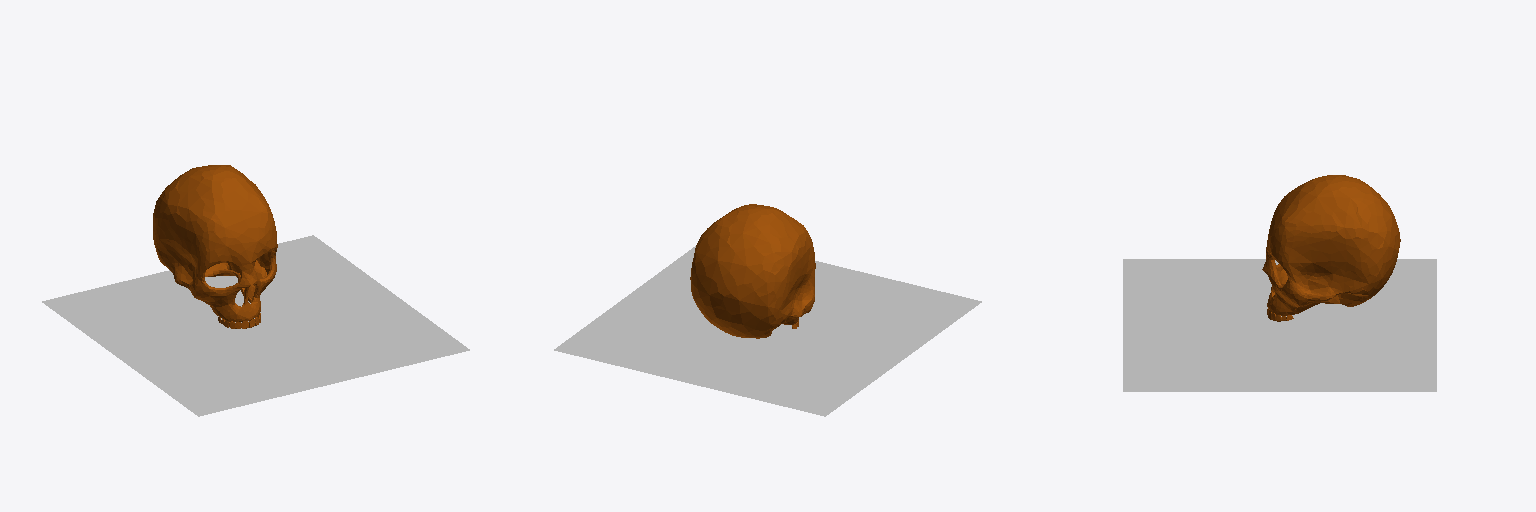
File: skull_gold.obj
The picture shows the model from 3 angles: view 1: azimuth 30°, elevation 25°; view 2: azimuth 150°, elevation 25°; view 3: azimuth 270°, elevation 25°; orthographic projection.
Visible parts, largest first — view 1: Plane, Sphere_Sphere.001; view 2: Plane, Sphere_Sphere.001; view 3: Plane, Sphere_Sphere.001.
Boxes of the visible parts, x1=… form: Plane: x1=42, y1=235, x2=469, y2=416; Sphere_Sphere.001: x1=153, y1=165, x2=277, y2=328; Plane: x1=554, y1=246, x2=981, y2=416; Sphere_Sphere.001: x1=690, y1=204, x2=815, y2=338; Plane: x1=1123, y1=259, x2=1436, y2=391; Sphere_Sphere.001: x1=1262, y1=175, x2=1400, y2=321.
Size of the model in its own units: 10.41 by 5.11 by 10.41.